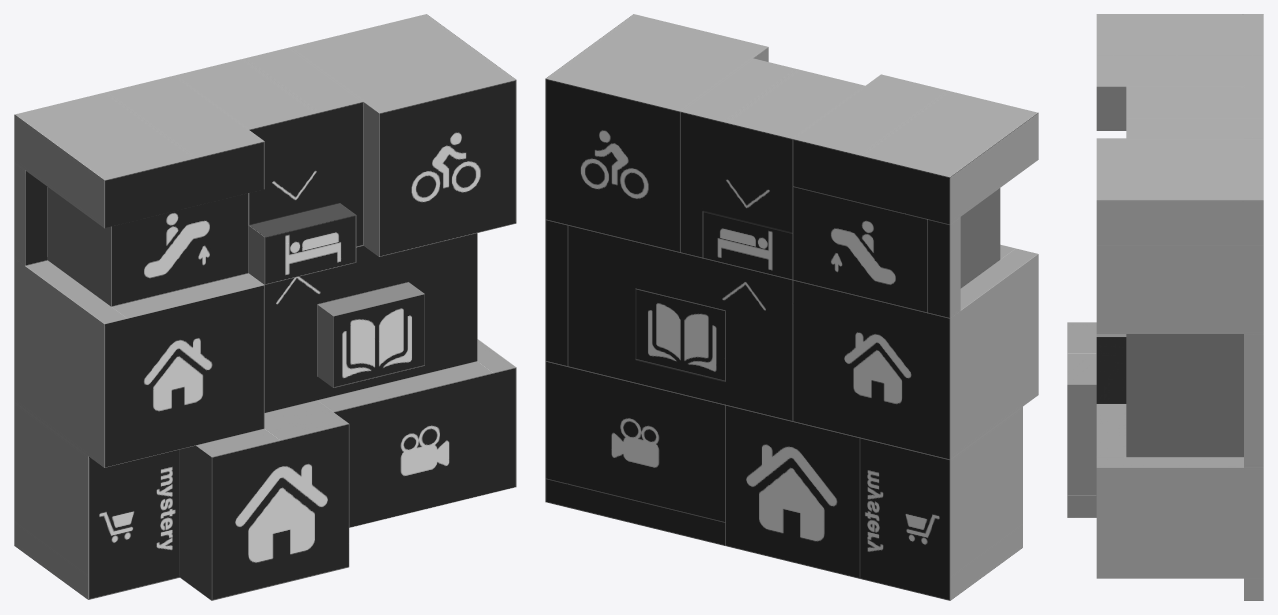
File: lego building mesh simplified_low rise_icon.fbx
3 views of the same model, side by side, from view 1: azimuth 30°, elevation 25°; view 2: azimuth 150°, elevation 25°; view 3: azimuth 270°, elevation 25° (orthographic). The views are drawn at different scales.
Parts seen in each view (by area): view 1: Layer 03; view 2: Layer 03; view 3: Layer 03.
Boxes of the visible parts, x1=… form: Layer 03: x1=14, y1=14, x2=516, y2=600; Layer 03: x1=545, y1=14, x2=1038, y2=600; Layer 03: x1=1067, y1=14, x2=1263, y2=600.
Size of the model in its own units: 360 by 360 by 160.
